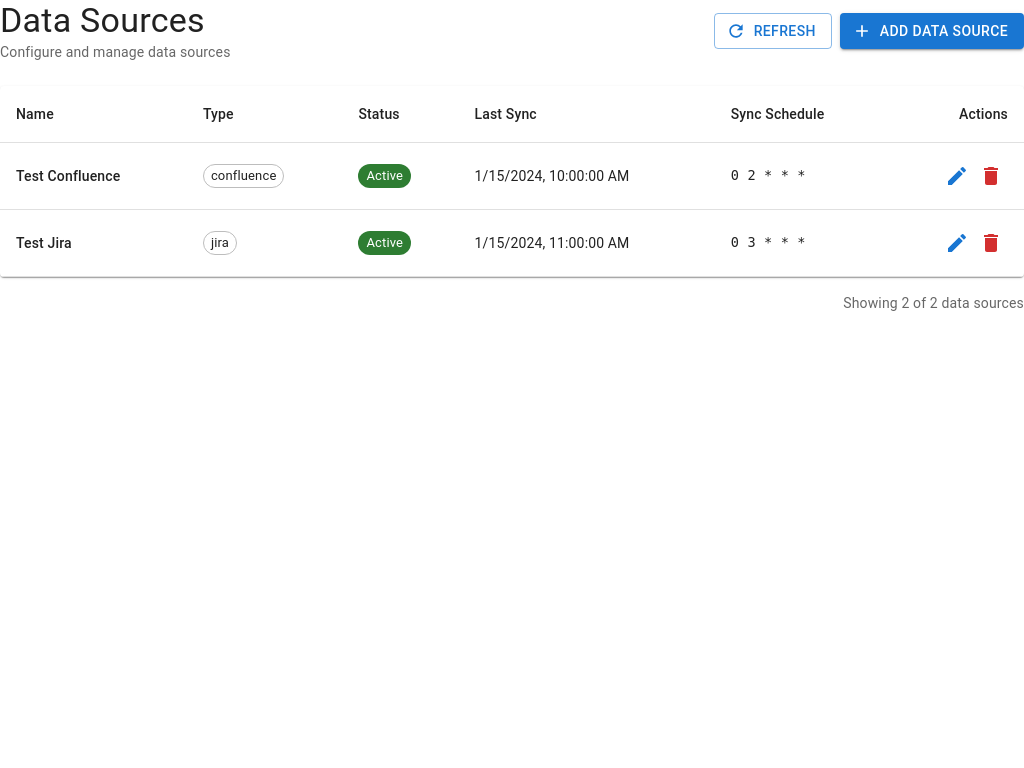
Test: DataSourceManager › should open create modal when Add Data Source button is clicked
The width and height of the screenshot is (1024, 768).
expect the text "Test Confluence" is shown: met, box [16,168,120,184]
Click the button "Add Data Source" at (932, 31), box [840,13,1023,49]
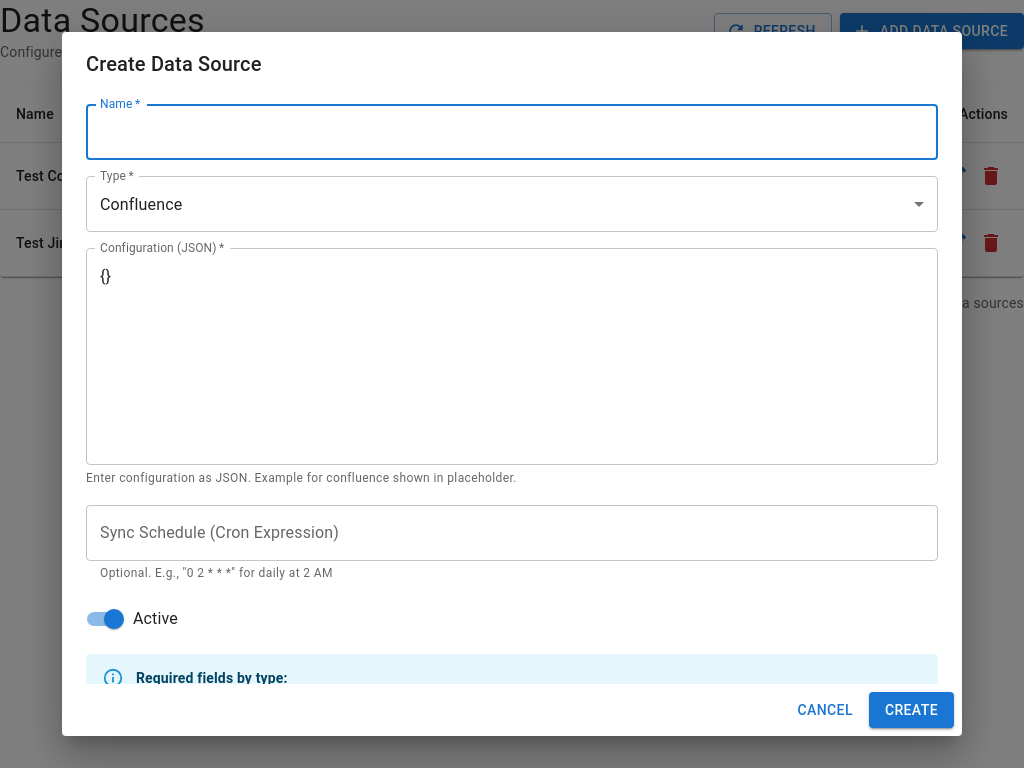
expect the dialog is shown: met
